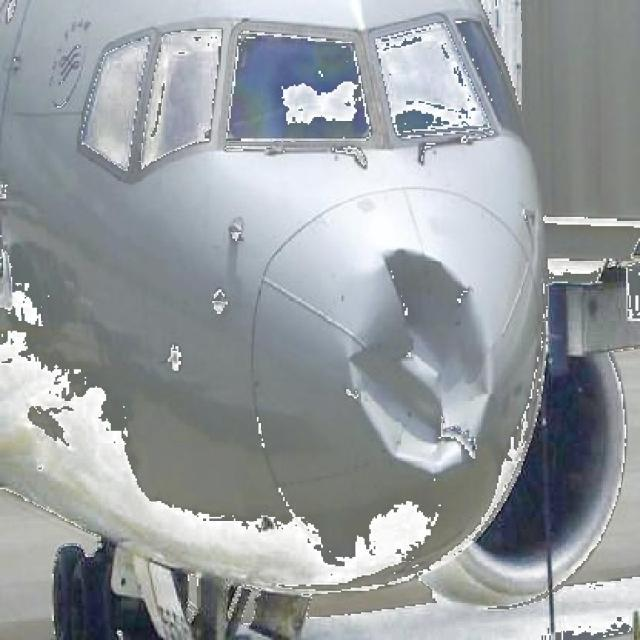dent: (347, 247, 492, 480)
